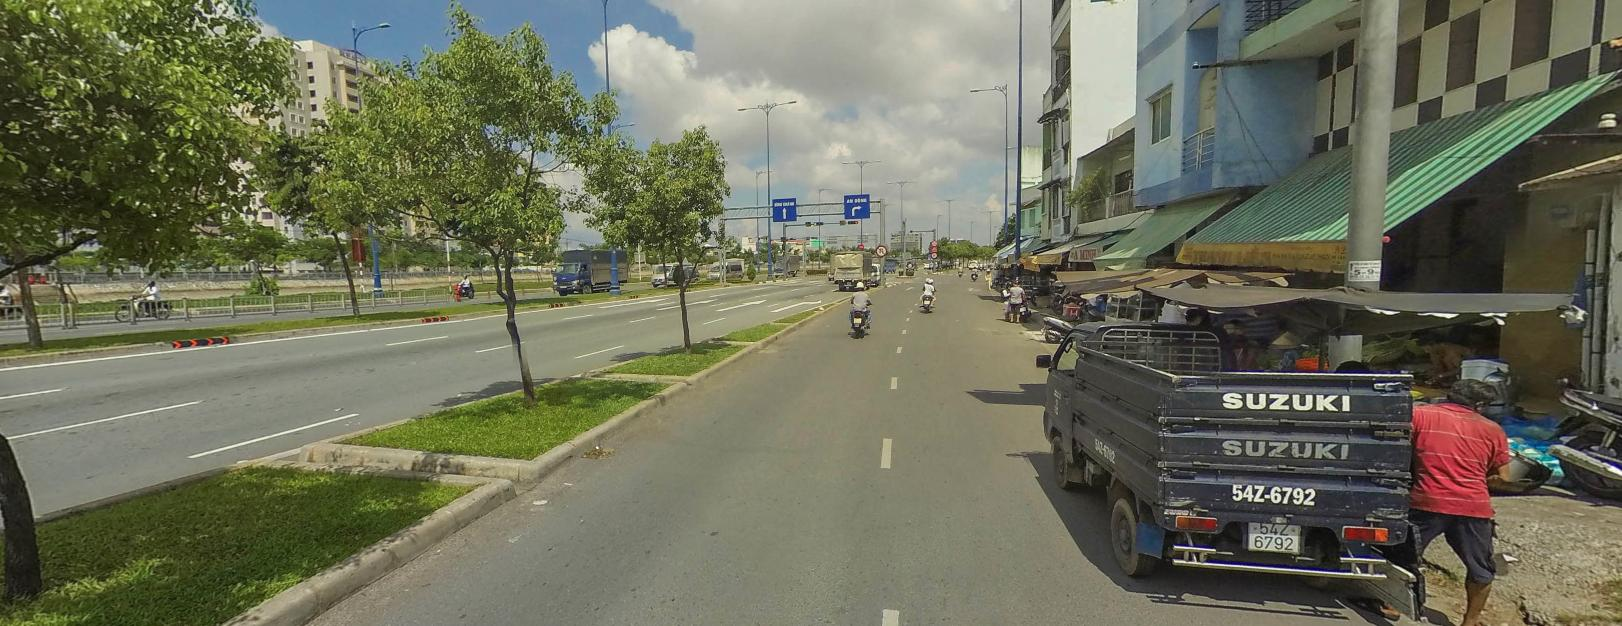Cam con lai: (930, 238, 937, 244), (931, 251, 937, 257)
Cam nguoc chieu: (858, 242, 863, 247)
Cam re: (876, 243, 887, 255)
